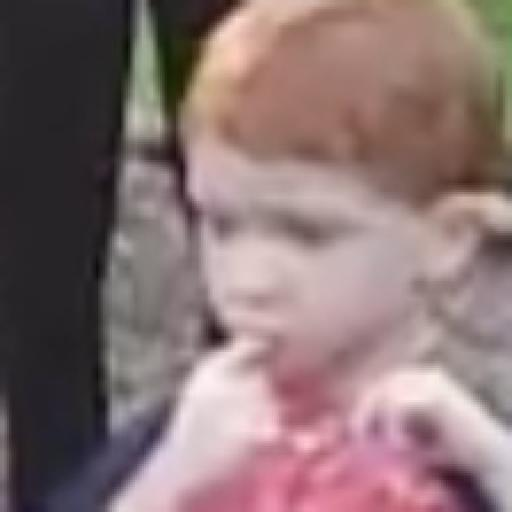Autism: (176, 60, 512, 404)
